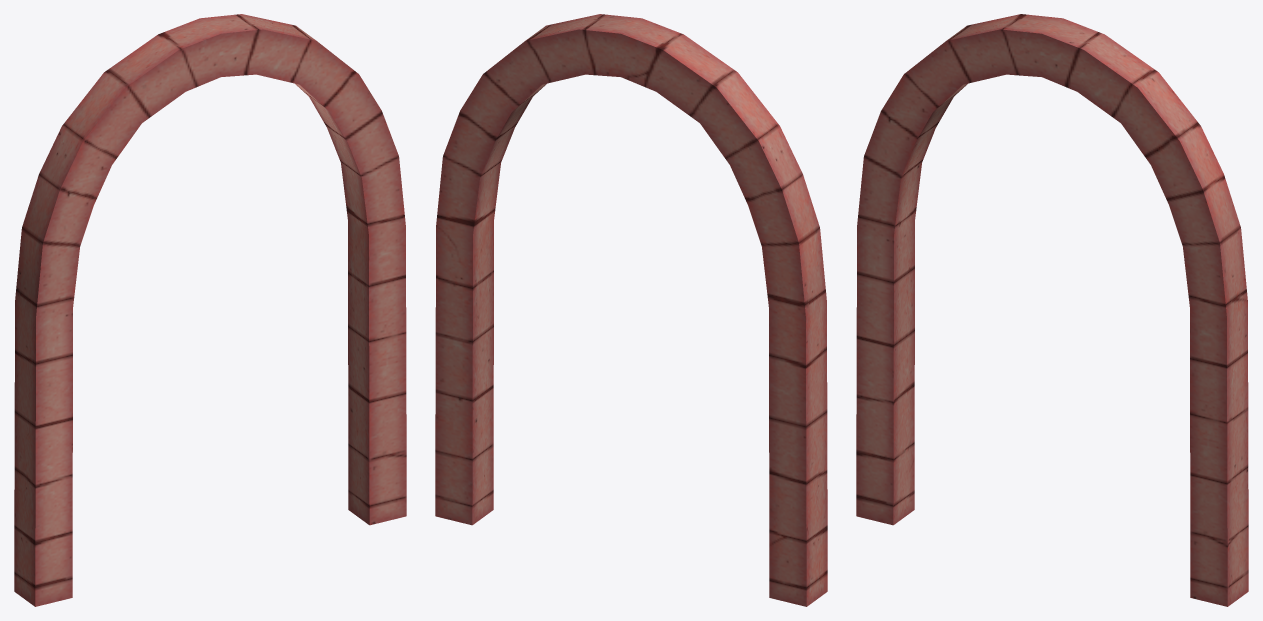
File: sb_obj_outdoor024_PrincessCastle01_door01.fbx
The picture shows the model from 3 angles, left to right: view 1: azimuth 30°, elevation 25°; view 2: azimuth 150°, elevation 25°; view 3: azimuth 330°, elevation 25°; orthographic projection.
Visible parts, largest first — view 1: sb_obj_outdoor024_PrincessCastle01_door01; view 2: sb_obj_outdoor024_PrincessCastle01_door01; view 3: sb_obj_outdoor024_PrincessCastle01_door01.
Part boxes in pixels (<box>): sb_obj_outdoor024_PrincessCastle01_door01: <box>14,14,406,606</box>; sb_obj_outdoor024_PrincessCastle01_door01: <box>435,14,827,606</box>; sb_obj_outdoor024_PrincessCastle01_door01: <box>856,14,1248,606</box>.
Size of the model in its own units: 2.44 by 3.31 by 0.2394.
